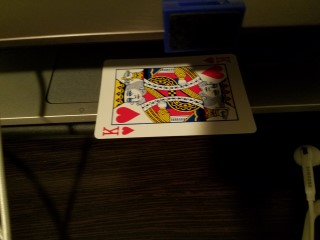KingOfHearts: (94, 50, 258, 140)
